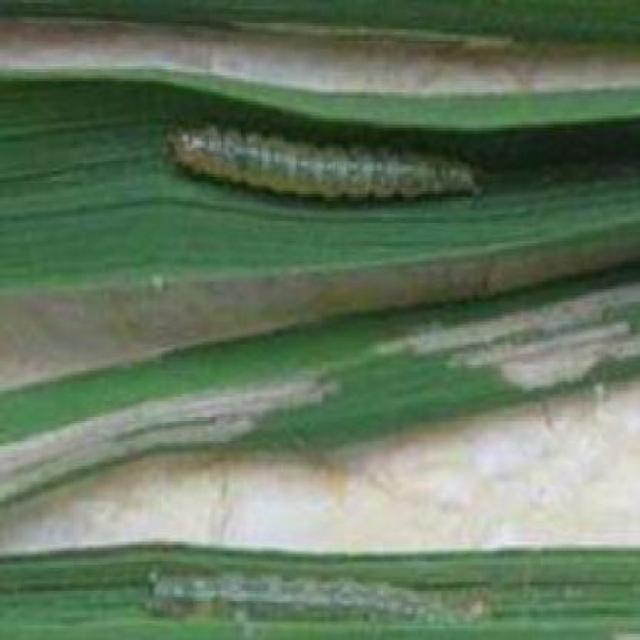leaf-folder: (129, 524, 503, 640), (153, 117, 492, 229)
